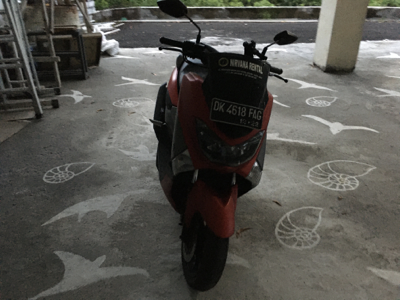moto: (145, 37, 274, 295)
